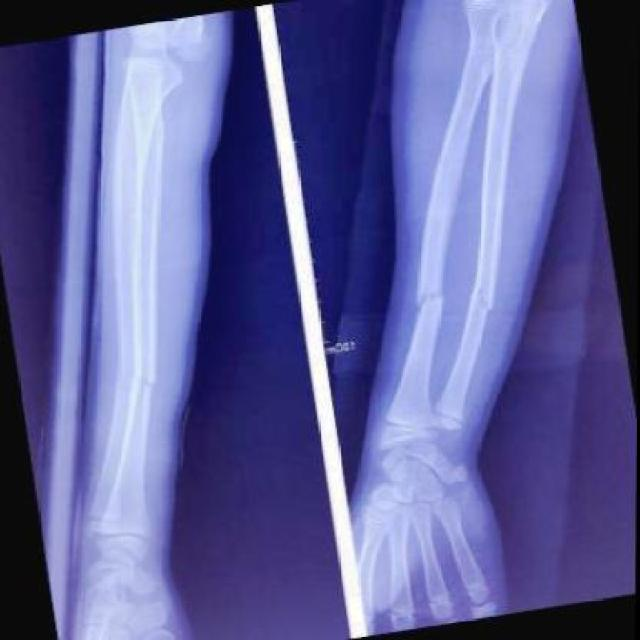Fracture: (463, 283, 497, 319), (413, 283, 450, 314), (109, 368, 139, 396), (126, 371, 159, 396)
